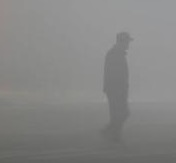person: (95, 30, 141, 144)
